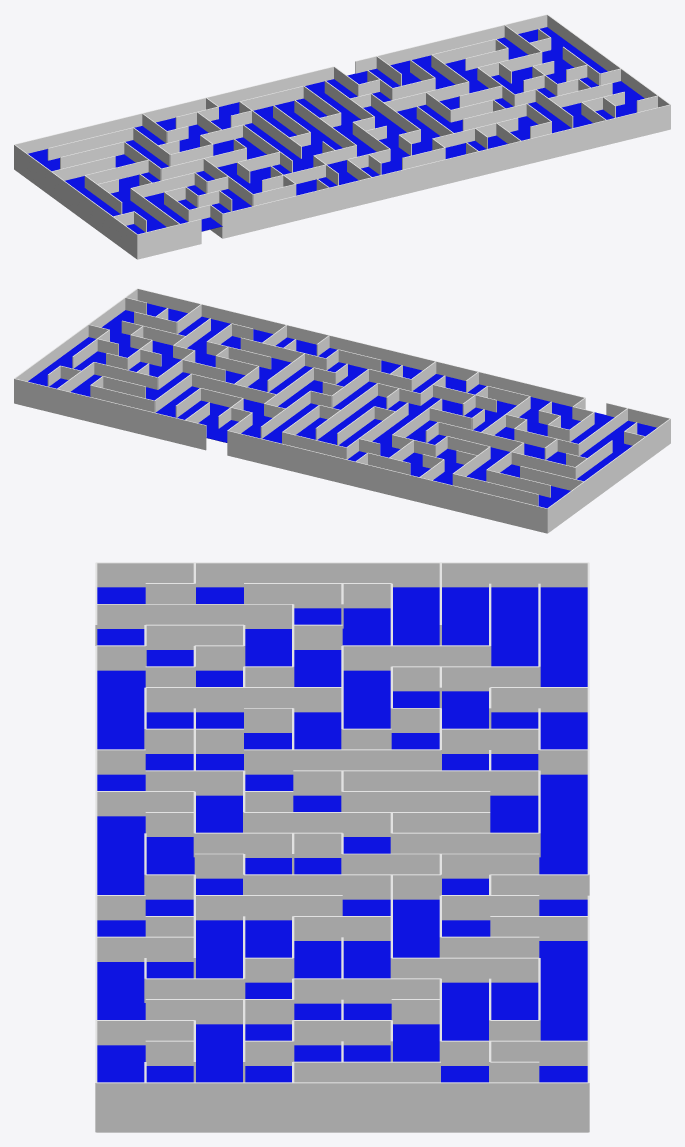
The model's file is GridPlane.fbx.
3 views of the same model, one above another, from view 1: azimuth 30°, elevation 25°; view 2: azimuth 150°, elevation 25°; view 3: azimuth 270°, elevation 25° (orthographic). The views are drawn at different scales.
Visible parts, largest first — view 1: Wall__24_10_____24_11_, Wall__1_10_____1_11_, Wall__9_10_____9_11_, Wall__10_10_____10_11_, Wall__18_10_____18_11_, Wall__20_10_____20_11_, Wall__3_10_____3_11_, Wall__4_10_____4_11_, Wall__5_10_____5_11_, Wall__7_10_____7_11_, Wall__8_10_____8_11_, Wall__11_10_____11_11_ (+12 smaller); view 2: Wall__24_0_____24__1_, Wall__8_0_____8__1_, Wall__1_0_____1__1_, Wall__10_0_____10__1_, Wall__18_0_____18__1_, Wall__20_0_____20__1_, Wall__3_0_____3__1_, Wall__4_0_____4__1_, Wall__5_0_____5__1_, Wall__6_0_____6__1_, Wall__7_0_____7__1_, Wall__11_0_____11__1_ (+12 smaller); view 3: Wall__0_1______1_1_, Wall__0_2______1_2_, Wall__0_3______1_3_, Wall__0_4______1_4_, Wall__0_7______1_7_, Wall__0_0______1_0_, Wall__0_5______1_5_, Wall__0_6______1_6_, Wall__0_8______1_8_, Wall__0_9______1_9_, Wall__4_4_____5_4_, Wall__9_0_____10_0_ (+214 smaller).
Part boxes in pixels (x1,y1,x2,y2): Wall__24_10_____24_11_: [137, 229, 159, 259]; Wall__1_10_____1_11_: [628, 109, 649, 139]; Wall__9_10_____9_11_: [457, 151, 478, 181]; Wall__10_10_____10_11_: [436, 156, 457, 186]; Wall__18_10_____18_11_: [265, 198, 286, 228]; Wall__20_10_____20_11_: [223, 208, 244, 238]; Wall__3_10_____3_11_: [585, 120, 606, 149]; Wall__4_10_____4_11_: [564, 125, 585, 155]; Wall__5_10_____5_11_: [543, 130, 564, 160]; Wall__7_10_____7_11_: [500, 141, 521, 170]; Wall__8_10_____8_11_: [479, 146, 500, 176]; Wall__11_10_____11_11_: [415, 161, 436, 191]; Wall__24_0_____24__1_: [525, 503, 547, 533]; Wall__8_0_____8__1_: [184, 420, 206, 450]; Wall__1_0_____1__1_: [35, 383, 56, 413]; Wall__10_0_____10__1_: [227, 430, 248, 460]; Wall__18_0_____18__1_: [398, 472, 419, 502]; Wall__20_0_____20__1_: [440, 482, 461, 512]; Wall__3_0_____3__1_: [78, 394, 99, 423]; Wall__4_0_____4__1_: [99, 399, 120, 429]; Wall__5_0_____5__1_: [120, 404, 141, 434]; Wall__6_0_____6__1_: [142, 409, 163, 439]; Wall__7_0_____7__1_: [163, 415, 184, 444]; Wall__11_0_____11__1_: [248, 435, 269, 465]; Wall__0_1______1_1_: [490, 1082, 539, 1132]; Wall__0_2______1_2_: [441, 1082, 490, 1132]; Wall__0_3______1_3_: [391, 1082, 440, 1132]; Wall__0_4______1_4_: [342, 1082, 391, 1132]; Wall__0_7______1_7_: [194, 1082, 243, 1132]; Wall__0_0______1_0_: [539, 1082, 588, 1132]; Wall__0_5______1_5_: [293, 1082, 342, 1132]; Wall__0_6______1_6_: [244, 1082, 293, 1132]; Wall__0_8______1_8_: [145, 1082, 194, 1132]; Wall__0_9______1_9_: [96, 1082, 145, 1132]; Wall__4_4_____5_4_: [342, 978, 391, 1003]; Wall__9_0_____10_0_: [539, 874, 588, 899].
Size of the model in its own units: 2505 by 111 by 1005.
